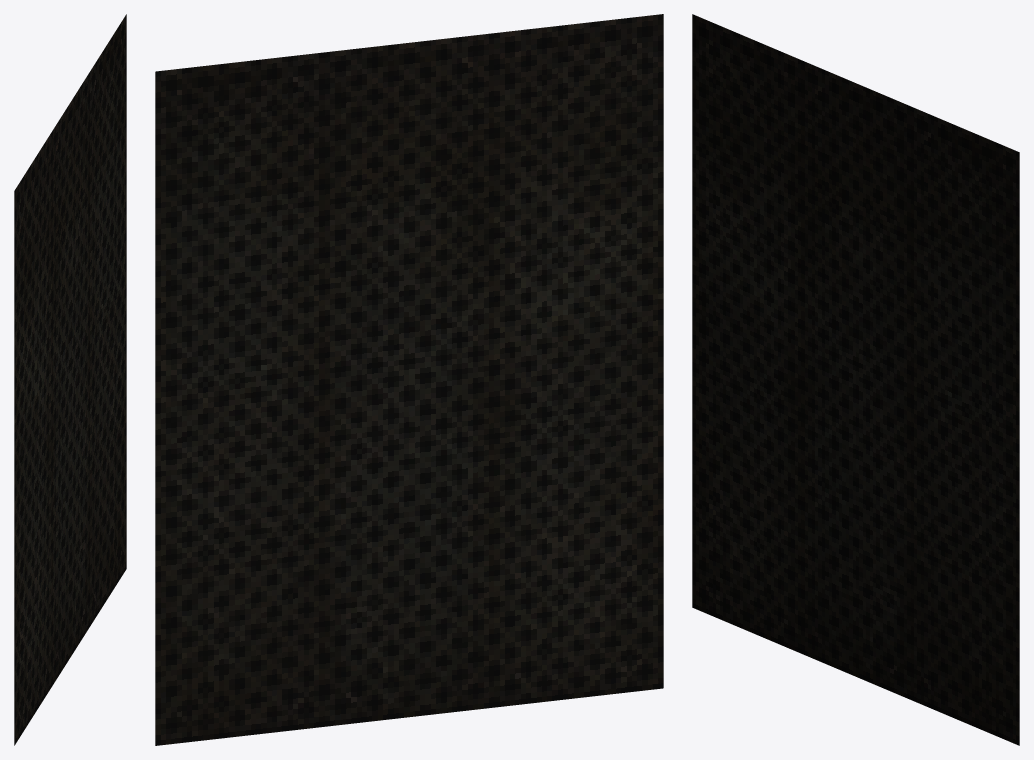
Rendered from corner_1.glb.
3 renders of one model, left to right at view 1: azimuth 30°, elevation 25°; view 2: azimuth 150°, elevation 25°; view 3: azimuth 270°, elevation 25°, orthographic. The views are drawn at different scales.
Parts seen in each view (by area): view 1: corner_1; view 2: corner_1; view 3: corner_1.
Part boxes in pixels (x1,y1,x2,y2): corner_1: (14, 14, 126, 745); corner_1: (155, 14, 663, 745); corner_1: (692, 14, 1019, 745).
Bounding box in the file's own units: 1 × 2 × 1.
Materials: 1 (1 with a texture image).
